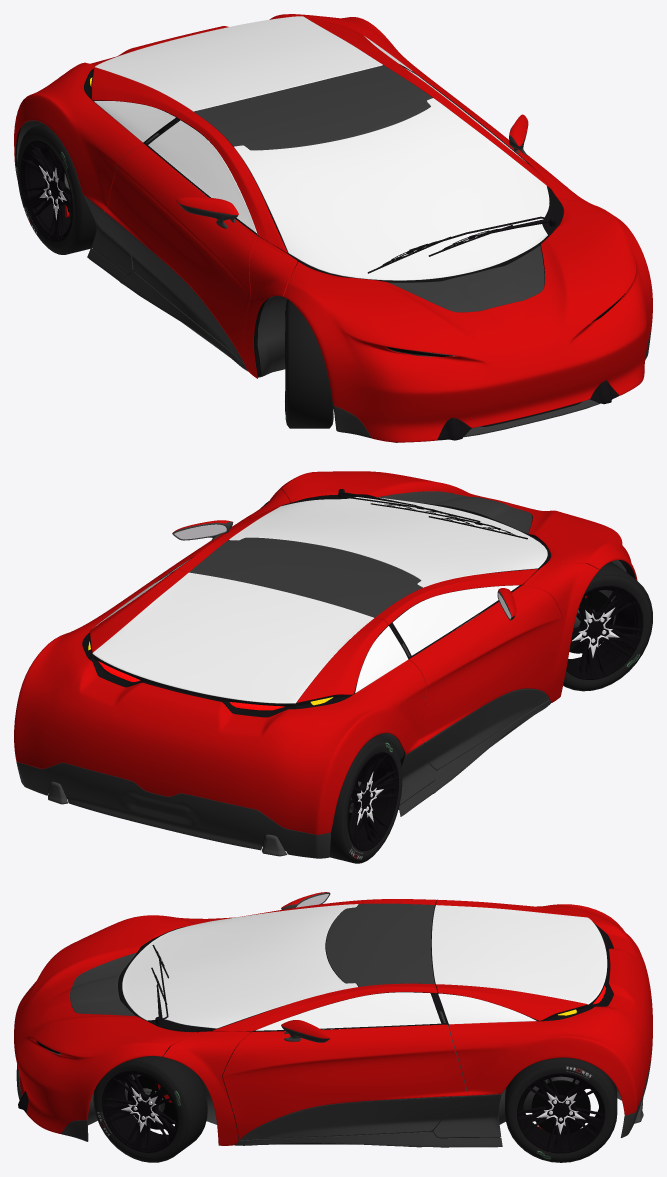
The model's file is CarConcept.fbx.
The picture shows the model from 3 angles, top to bottom: view 1: azimuth 30°, elevation 25°; view 2: azimuth 150°, elevation 25°; view 3: azimuth 270°, elevation 25°; orthographic projection. The views are drawn at different scales.
Visible parts, largest first — view 1: BodyHood, BodyWindshield, BodyRearwindow, BodyDoorRColor1, BodyRearPanelsColor1, BodyRoofPanel, BodyPillars, BodyPanelsColor2, BodyHoodTopgrill, WheelFrontR, BodyDoorRWindow, WheelRearRRim (+9 smaller); view 2: BodyRearPanelsColor1, BodyRearwindow, BodyWindshield, BodyPanelsColor2, BodyDoorRColor1, BodyRoofPanel, BodyHood, BodyPillars, WheelFrontRRim, BodyDoorRColor2, WheelRearRRim, BodyDoorRWindow (+7 smaller); view 3: BodyWindshield, BodyRearPanelsColor1, BodyDoorLColor1, BodyHood, BodyRearwindow, BodyRoofPanel, BodyPillars, BodyDoorLColor2, BodyPanelsColor2, WheelFrontL, WheelRearLRim, WheelFrontLRim (+12 smaller).
Boxes of the visible parts, left/top/right/bottom form: BodyHood: left=283, top=198, right=652, bottom=442; BodyWindshield: left=234, top=98, right=549, bottom=280; BodyRearwindow: left=94, top=16, right=382, bottom=111; BodyDoorRColor1: left=104, top=143, right=257, bottom=362; BodyRearPanelsColor1: left=14, top=14, right=428, bottom=210; BodyRoofPanel: left=193, top=65, right=432, bottom=150; BodyPillars: left=176, top=61, right=598, bottom=378; BodyPanelsColor2: left=15, top=167, right=651, bottom=438; BodyHoodTopgrill: left=388, top=245, right=544, bottom=312; WheelFrontR: left=285, top=299, right=333, bottom=428; BodyDoorRWindow: left=148, top=120, right=257, bottom=234; WheelRearRRim: left=20, top=140, right=73, bottom=241; BodyRearPanelsColor1: left=14, top=569, right=425, bottom=834; BodyRearwindow: left=92, top=572, right=373, bottom=703; BodyWindshield: left=229, top=497, right=547, bottom=587; BodyPanelsColor2: left=16, top=700, right=550, bottom=858; BodyDoorRColor1: left=409, top=585, right=562, bottom=742; BodyRoofPanel: left=189, top=537, right=422, bottom=617; BodyHood: left=279, top=471, right=637, bottom=580; BodyPillars: left=175, top=489, right=599, bottom=702; WheelFrontRRim: left=566, top=585, right=643, bottom=679; BodyDoorRColor2: left=424, top=688, right=549, bottom=769; WheelRearRRim: left=347, top=752, right=398, bottom=850; BodyDoorRWindow: left=392, top=585, right=519, bottom=655; BodyWindshield: left=122, top=904, right=358, bottom=1028; BodyRearPanelsColor1: left=436, top=899, right=652, bottom=1115; BodyDoorLColor1: left=222, top=1024, right=467, bottom=1139; BodyHood: left=14, top=915, right=196, bottom=1133; BodyRearwindow: left=431, top=905, right=607, bottom=1004; BodyRoofPanel: left=326, top=903, right=434, bottom=986; BodyPillars: left=163, top=899, right=437, bottom=1145; BodyDoorLColor2: left=240, top=1096, right=467, bottom=1140; BodyPanelsColor2: left=16, top=1050, right=652, bottom=1147; WheelFrontL: left=93, top=1054, right=207, bottom=1162; WheelRearLRim: left=517, top=1073, right=605, bottom=1153; WheelFrontLRim: left=102, top=1070, right=178, bottom=1152.
Size of the model in its own units: 254 by 115 by 436.
Materials: 22 (2 with a texture image).
